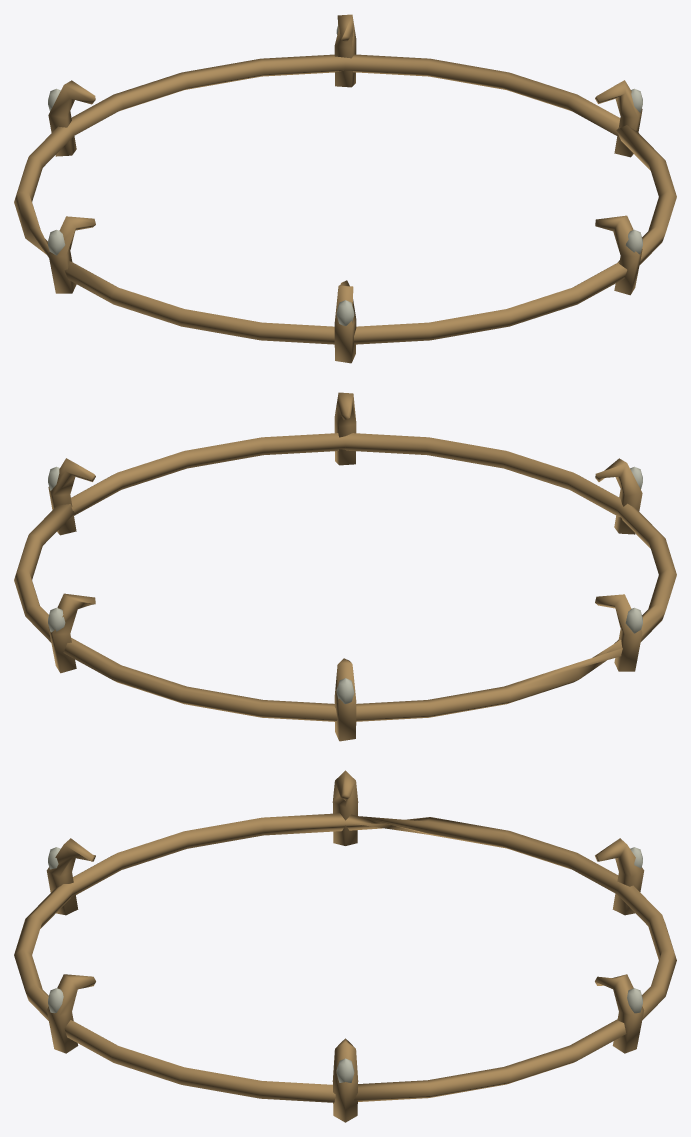
Rendered from tier-mount-desktop.glb.
3 views of the same model, one above another, from view 1: azimuth 30°, elevation 25°; view 2: azimuth 150°, elevation 25°; view 3: azimuth 270°, elevation 25° (orthographic).
Visible parts, largest first — view 1: tier-mount_0, tier-mount_1; view 2: tier-mount_0, tier-mount_1; view 3: tier-mount_0, tier-mount_1.
Part boxes in pixels (x1,y1,x2,y2): tier-mount_0: (14, 14, 676, 363); tier-mount_1: (48, 25, 642, 325); tier-mount_0: (14, 392, 676, 741); tier-mount_1: (48, 466, 642, 703); tier-mount_0: (14, 770, 676, 1122); tier-mount_1: (48, 847, 642, 1082).
Bounding box in the file's own units: 1.3 × 0.1565 × 1.25.
